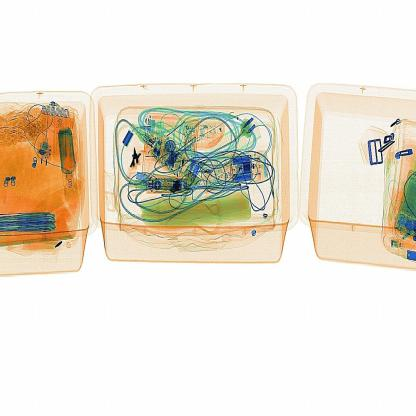gun: (122, 138, 150, 188)
